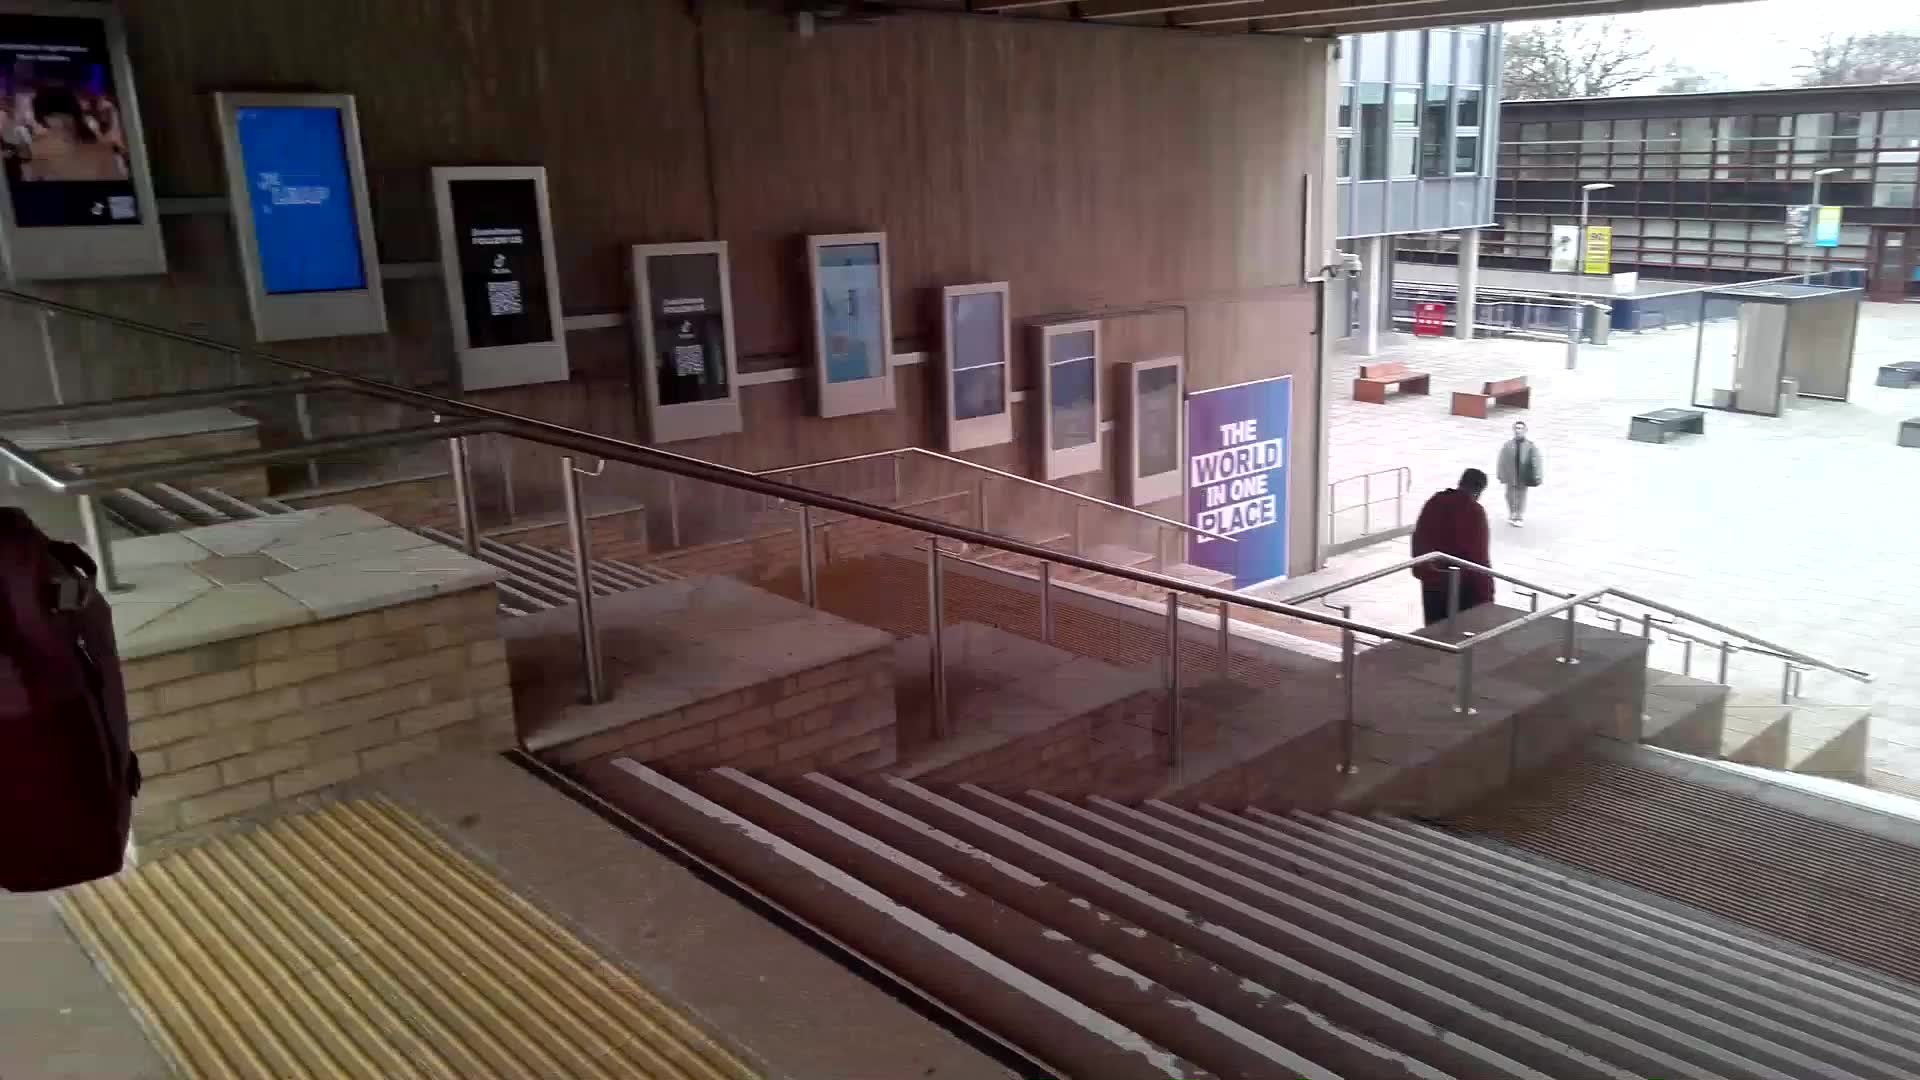Backpack: (1, 498, 148, 909)
Bench: (1452, 373, 1540, 426), (1350, 358, 1437, 409), (1633, 403, 1713, 445)
Person: (1446, 463, 1496, 630), (1496, 418, 1540, 523)
Stairs: (522, 718, 1920, 1080)
